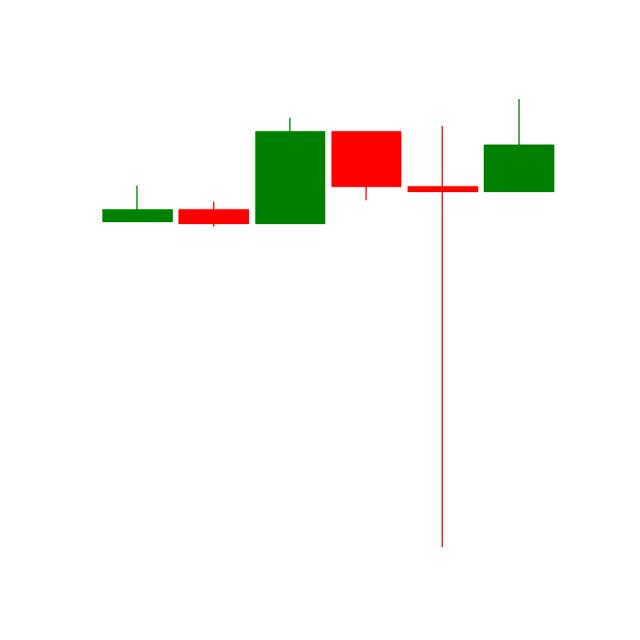Dragonfly Doji: (403, 121, 481, 552)
Gravenstone Doji: (100, 185, 173, 224)
spinning top: (179, 202, 251, 231)
